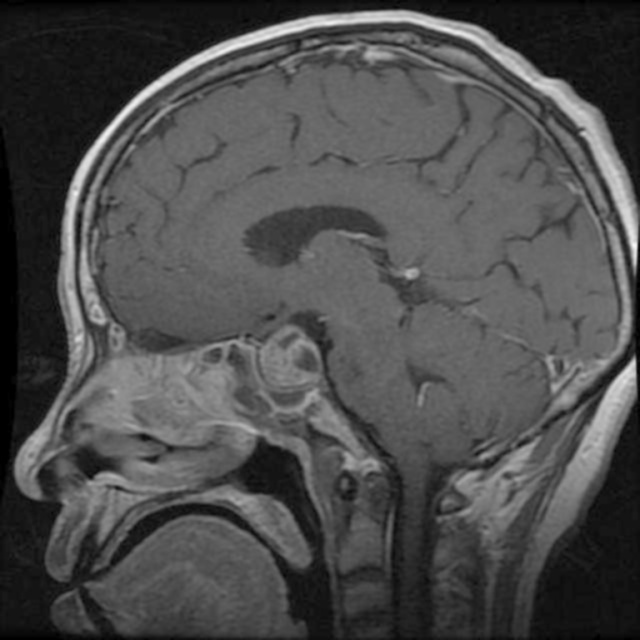no tumor: (256, 312, 326, 398)
